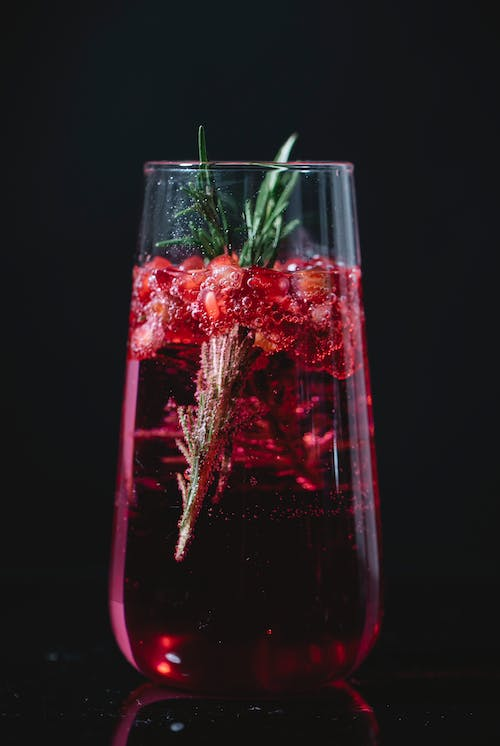alcohol: (106, 158, 388, 694)
